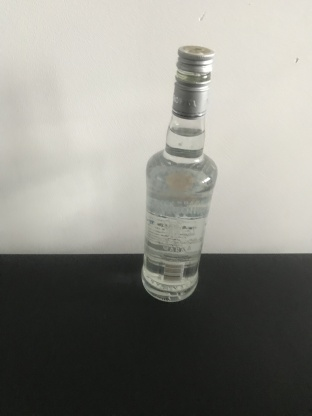nakretka: (170, 43, 215, 119)
